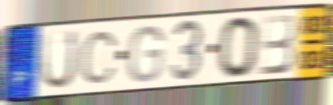3: (170, 16, 205, 86)
B: (258, 12, 297, 77)
C: (79, 29, 119, 86)
G: (125, 23, 166, 85)
O: (217, 14, 260, 80)
U: (37, 28, 79, 92)
